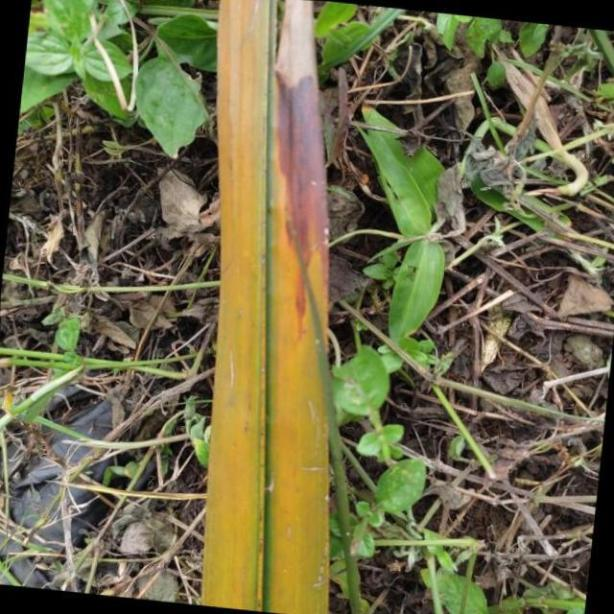Megnesium: (206, 0, 334, 614)
